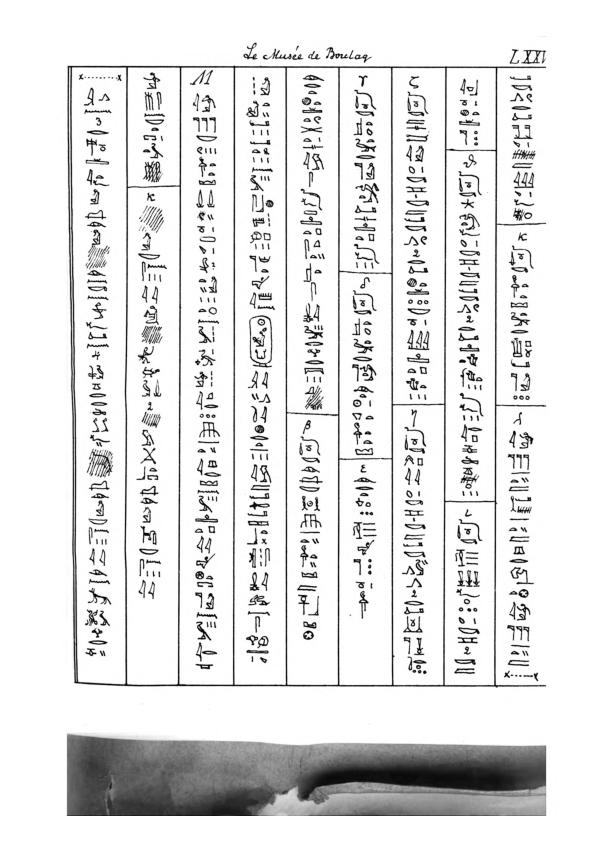circle: (247, 314, 275, 369)
